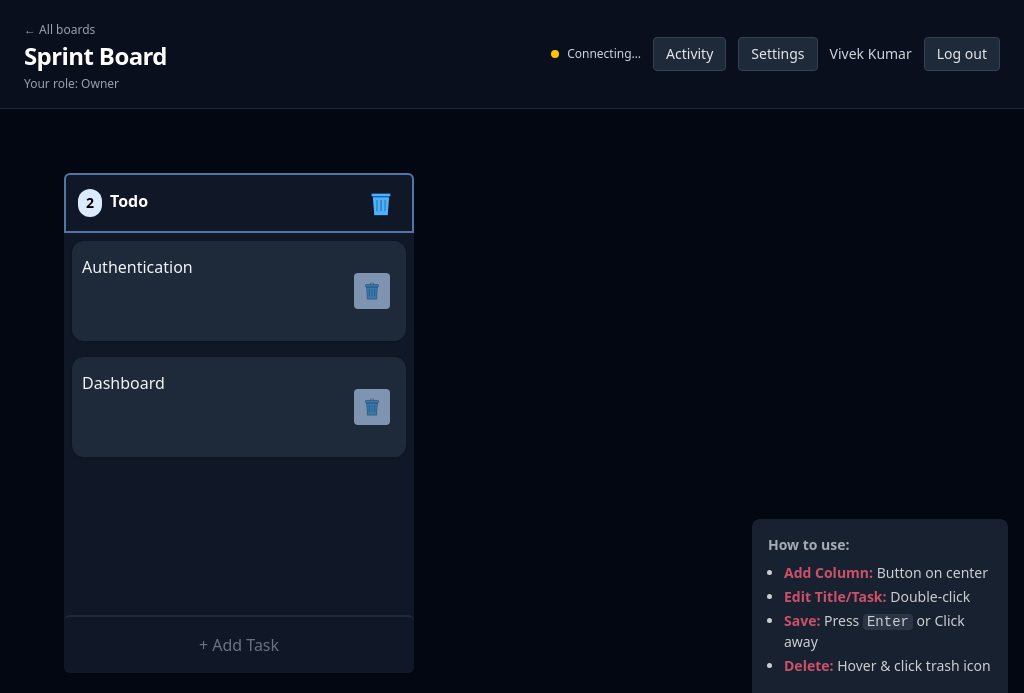
Test case: showing comments › offers Retry when loading fails
Click the text "Authentication" at (137, 267), box [82,256,193,278]
(page scrolled)
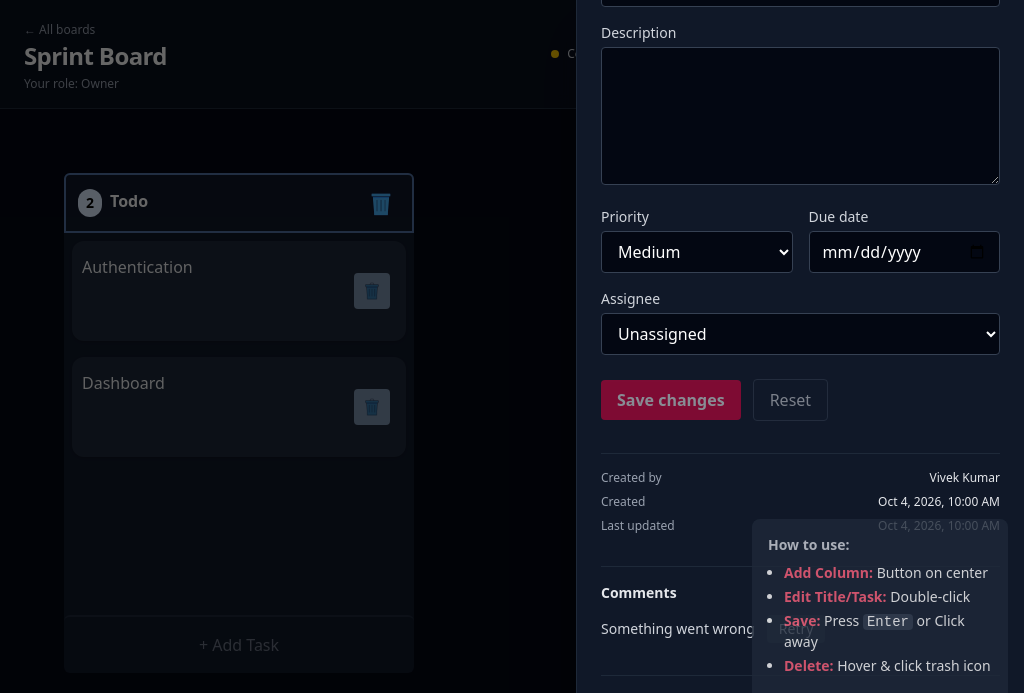
Now the text "Something went wrong" is shown, box [601,619,755,639]
Click the button "Retry" at (796, 629), box [767,615,826,643]
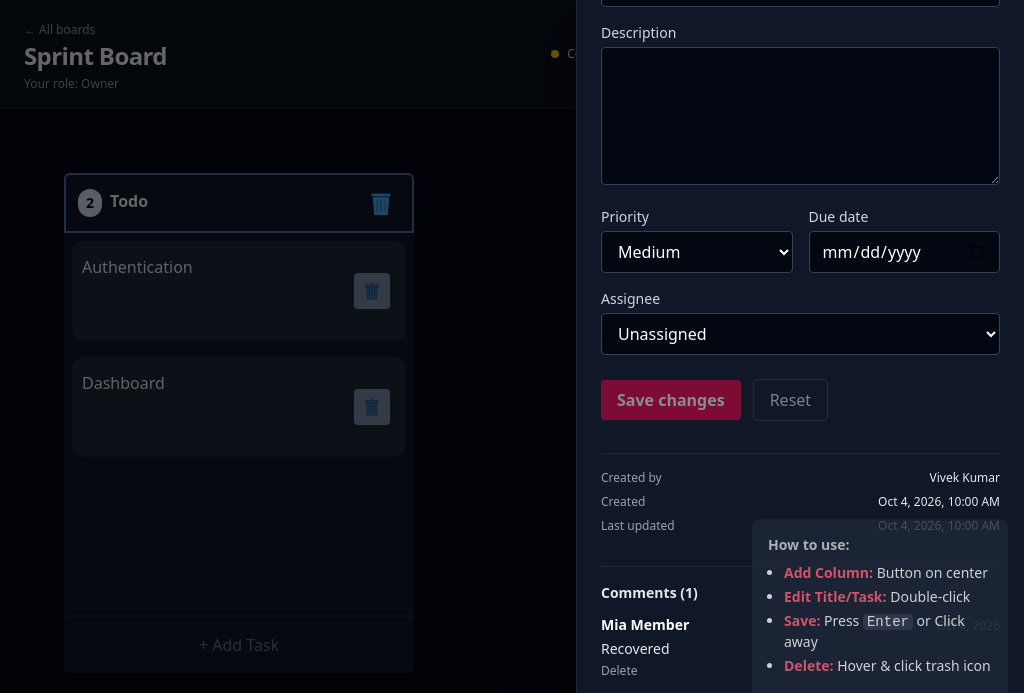
Now the text "Recovered" is shown, box [601,639,670,658]
